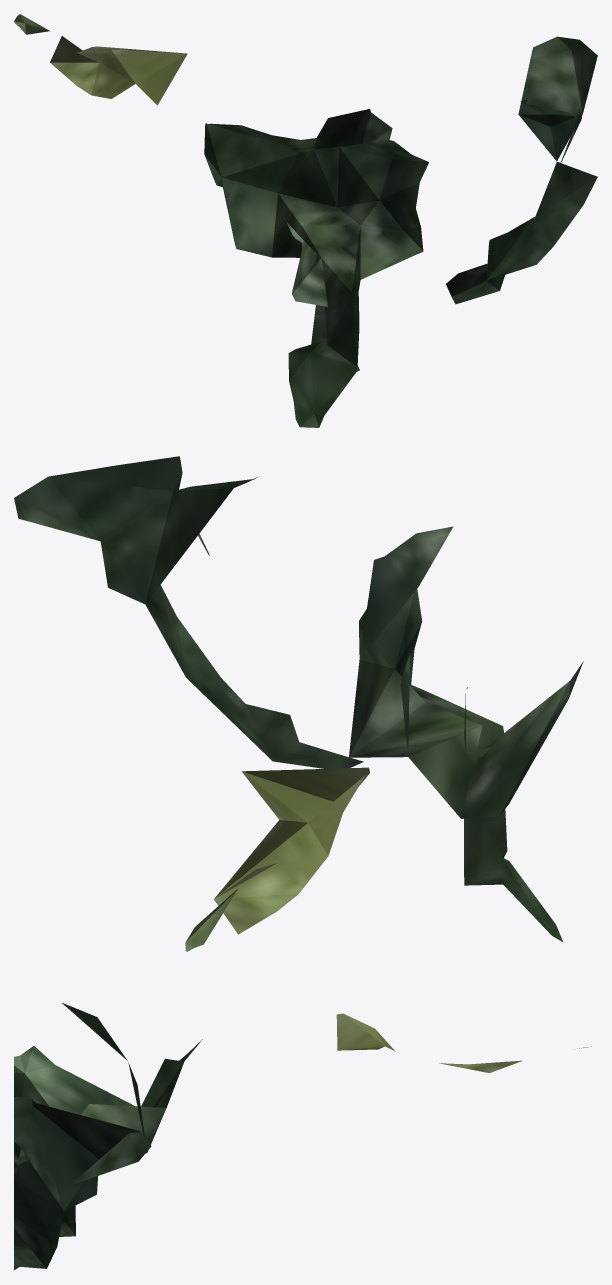
3 renders of one model, top to bottom at view 1: azimuth 30°, elevation 25°; view 2: azimuth 150°, elevation 25°; view 3: azimuth 270°, elevation 25°, orthographic. The views are drawn at different scales.
Size of the model in its own units: 22.12 by 16.61 by 31.6.
1 material, 1 textured.
